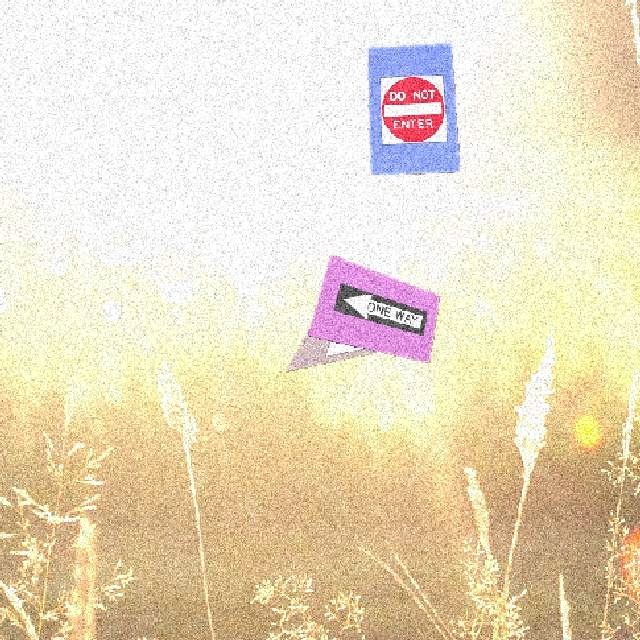DO_NOT_ENTER: (323, 287, 401, 361), (379, 73, 447, 144)
ONE_WAY_ left: (332, 281, 427, 335)
